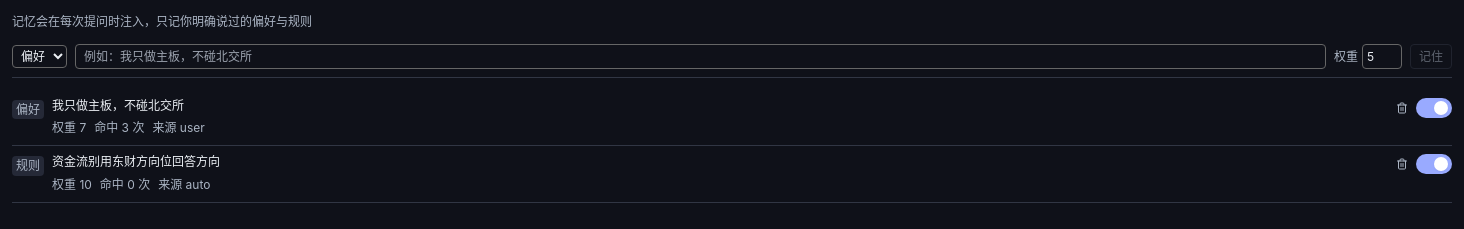
Test: MemoryPanel › 编辑：Esc 取消，不发 PATCH
Expected: the number of list items with test id "memory-row" is 2, 12,90 -> 1452,146; 12,146 -> 1452,203
Double-click the text with test id "memory-content" showing "我只做主板，不碰北交所": coordinates (118, 105) 52,98 -> 184,113
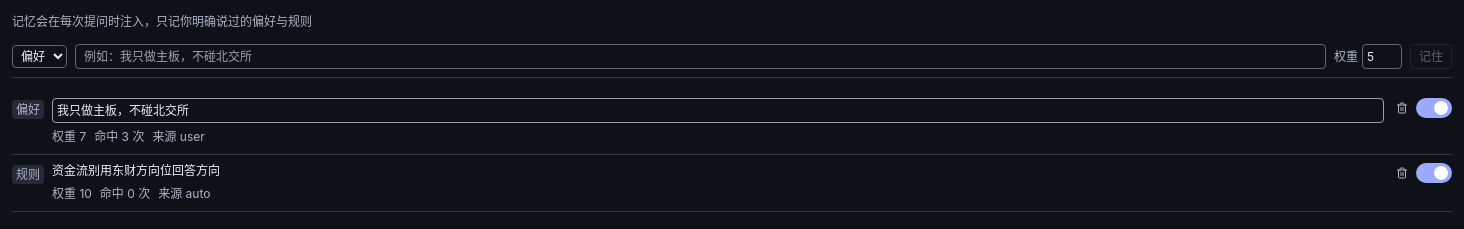
Replace the text in the field with test id "memory-edit-input" with "不该被保存": coordinates (718, 110) 52,98 -> 1384,123
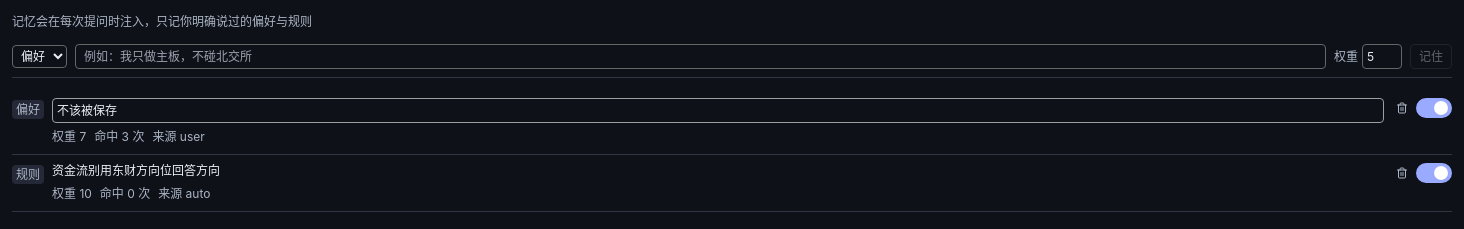
Press Escape in the field with test id "memory-edit-input", box 52,98 -> 1384,123
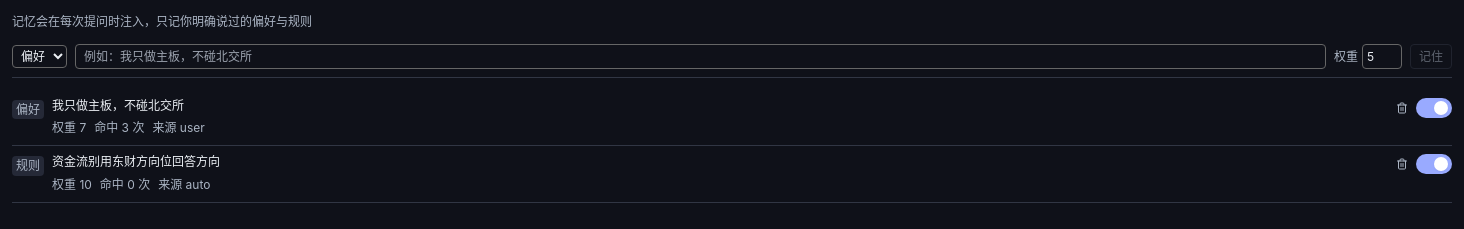
Now the field with test id "memory-edit-input" is gone
Now the text "我只做主板，不碰北交所" is shown, box 52,98 -> 184,113
